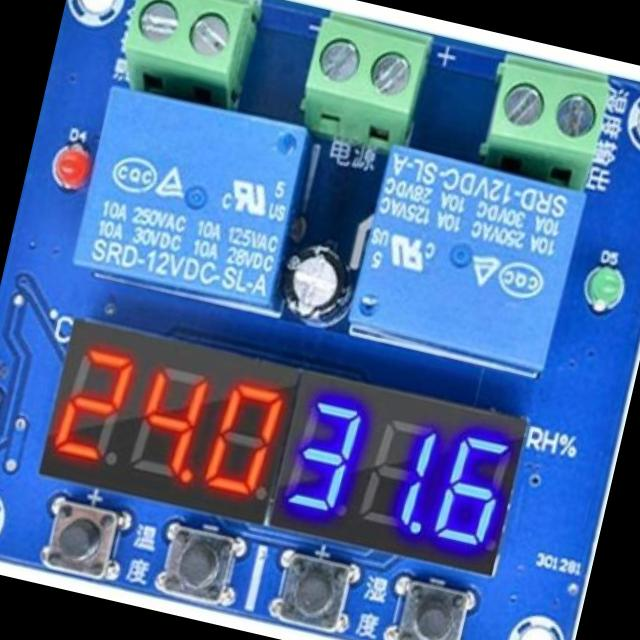LED: (579, 254, 628, 316), (44, 134, 94, 190)
capacitor: (266, 235, 360, 342)
connector: (472, 46, 622, 195), (294, 5, 434, 154), (112, 0, 268, 104)
